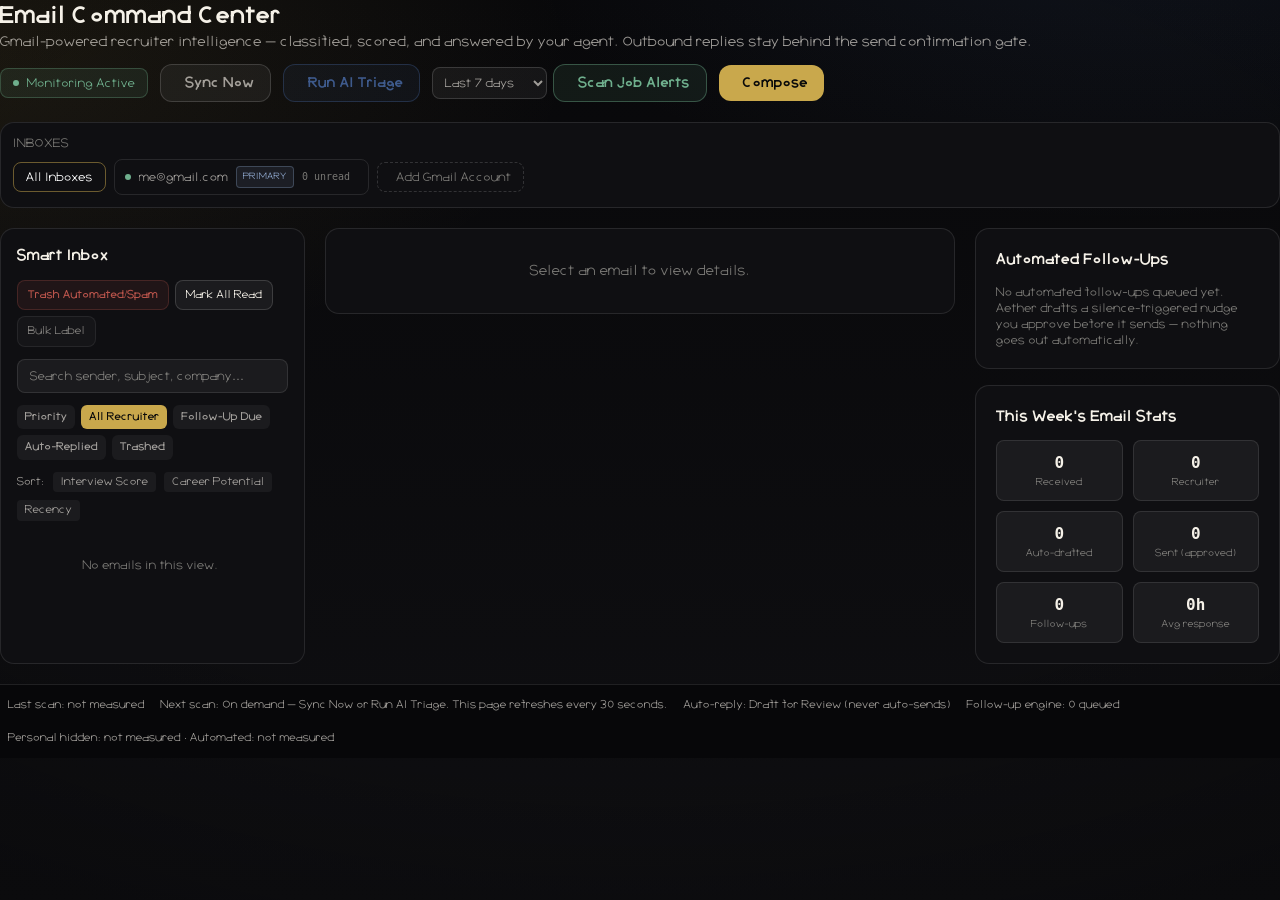
it: honest states › partial extraction: skipped postings, parser notes and a dead mailbox are all surfaced
What coordinates should you click on to do the following:
click the button with test id "run-job-alerts-btn"
I would click on:
 (630, 83)
Its box is [553,64,707,102].
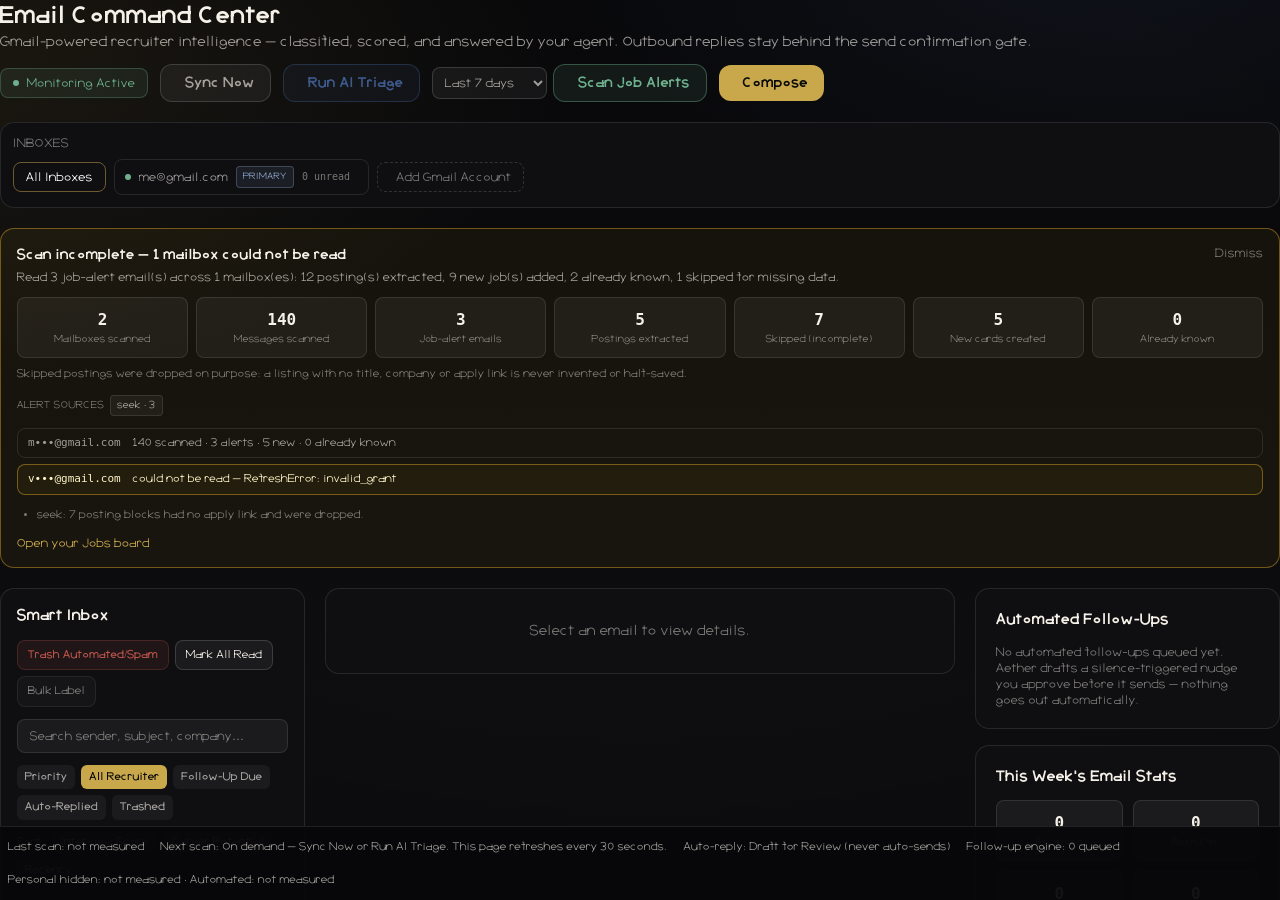
Expected: the message with test id "job-alerts-result" shows "1 mailbox could not be read", [17,248,346,262]
Expected: the element with test id "job-alerts-postings-skipped" shows "7", [814,310,824,329]
